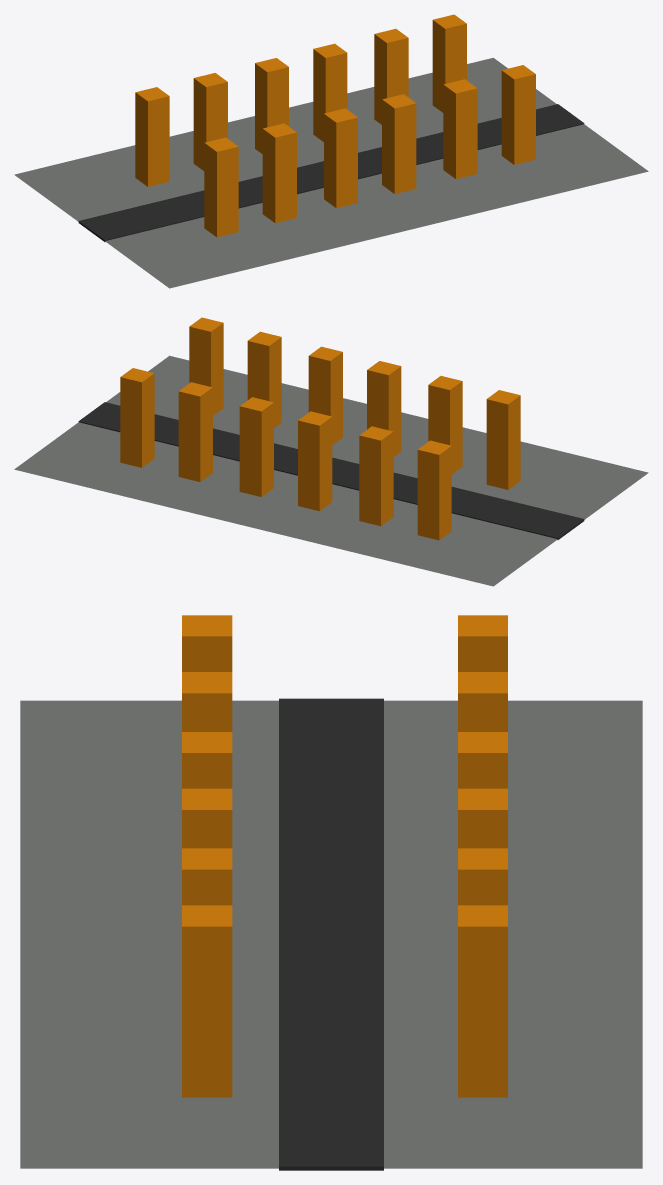
Rendered from try.glb.
3 views of the same model, one above another, from view 1: azimuth 30°, elevation 25°; view 2: azimuth 150°, elevation 25°; view 3: azimuth 270°, elevation 25° (orthographic). The views are drawn at different scales.
Parts seen in each view (by area): view 1: Plane, road, Cube.011, Cube.007, Cube, Cube.006, Cube.009, Cube.010, Cube.008, Cube.005, Cube.001, Cube.002 (+2 smaller); view 2: Plane, road, Cube, Cube.001, Cube.005, Cube.002, Cube.011, Cube.003, Cube.004, Cube.010, Cube.006, Cube.009 (+2 smaller); view 3: Plane, road, Cube.006, Cube.005, Cube.009, Cube.010, Cube.002, Cube.001, Cube.007, Cube.008, Cube.011, Cube.004 (+2 smaller).
Boxes of the visible parts, x1,y1,x2,y2 form: Plane: [14, 57, 648, 288]; road: [78, 104, 584, 241]; Cube.011: [204, 137, 238, 237]; Cube.007: [443, 79, 477, 178]; Cube: [135, 87, 169, 186]; Cube.006: [501, 65, 535, 164]; Cube.009: [382, 94, 416, 193]; Cube.010: [262, 123, 296, 223]; Cube.008: [324, 108, 357, 208]; Cube.005: [432, 14, 466, 112]; Cube.001: [193, 73, 227, 170]; Cube.002: [313, 43, 347, 141]; Plane: [14, 355, 648, 586]; road: [78, 402, 584, 539]; Cube: [417, 440, 451, 540]; Cube.001: [359, 426, 393, 526]; Cube.005: [120, 368, 154, 467]; Cube.002: [239, 397, 273, 496]; Cube.011: [486, 390, 520, 489]; Cube.003: [298, 411, 332, 511]; Cube.004: [178, 382, 212, 481]; Cube.010: [428, 376, 462, 473]; Cube.006: [189, 317, 223, 415]; Cube.009: [308, 346, 342, 444]; Plane: [20, 700, 642, 1168]; road: [279, 698, 383, 1170]; Cube.006: [182, 905, 232, 1097]; Cube.005: [458, 905, 507, 1097]; Cube.009: [182, 788, 232, 848]; Cube.010: [182, 672, 232, 731]; Cube.002: [458, 788, 507, 848]; Cube.001: [458, 672, 507, 731]; Cube.007: [182, 848, 232, 905]; Cube.008: [182, 732, 232, 788]; Cube.011: [182, 615, 232, 671]; Cube.004: [458, 848, 507, 905].
Size of the model in its own units: 327 by 57.41 by 183.
